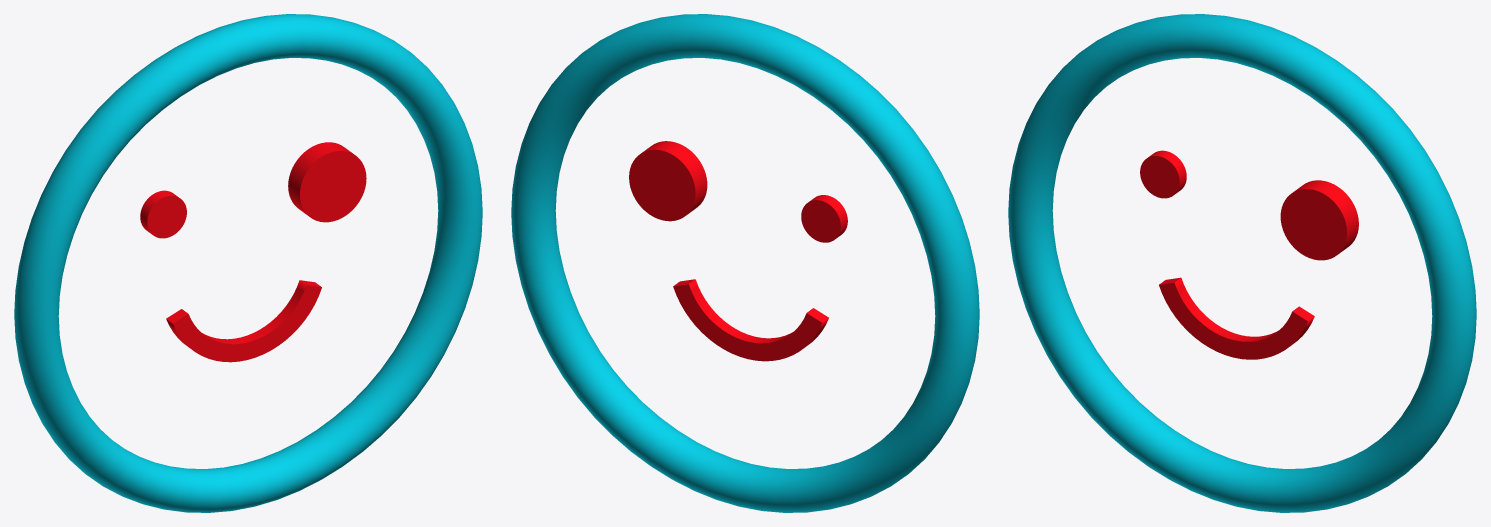
The model's file is smileMeTwo.glb.
3 views of the same model, side by side, from view 1: azimuth 30°, elevation 25°; view 2: azimuth 150°, elevation 25°; view 3: azimuth 330°, elevation 25° (orthographic).
Parts seen in each view (by area): view 1: torus, Curve.002, Curve.003, Curve.001; view 2: torus, Curve.002, Curve.003, Curve.001; view 3: torus, Curve.002, Curve.003, Curve.001.
Part boxes in pixels (box(x1,y1,x2,y2)): torus: box(14, 14, 482, 512); Curve.002: box(288, 142, 366, 222); Curve.003: box(166, 280, 321, 362); Curve.001: box(140, 190, 186, 238); torus: box(511, 14, 979, 512); Curve.002: box(629, 141, 707, 221); Curve.003: box(673, 279, 828, 361); Curve.001: box(801, 195, 847, 242); torus: box(1008, 14, 1476, 512); Curve.002: box(1280, 180, 1358, 260); Curve.003: box(1159, 277, 1314, 359); Curve.001: box(1140, 150, 1186, 198).
Bounding box in the file's own units: 5.25 × 5.25 × 0.4736.
